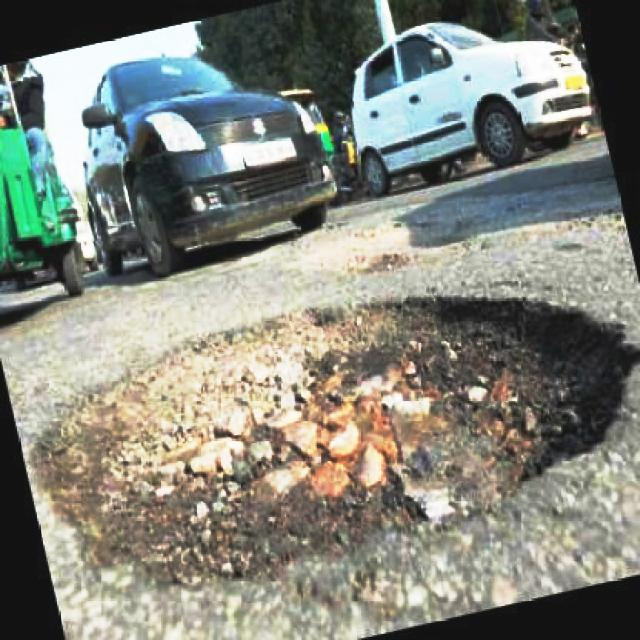pothole: (15, 280, 637, 583)
